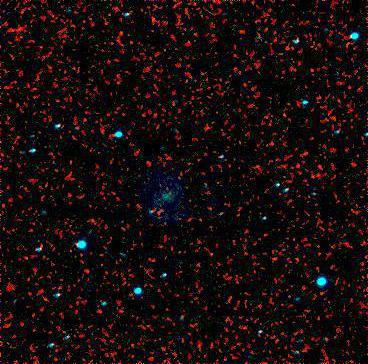star: (170, 173, 200, 203)
